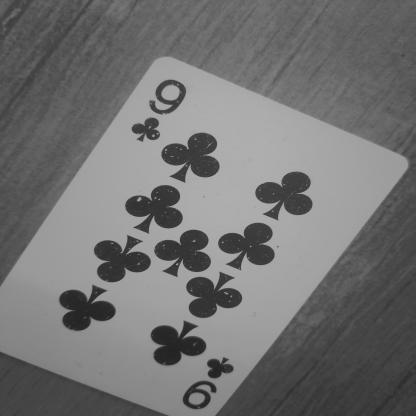9C: (124, 66, 199, 158), (168, 348, 246, 416)
